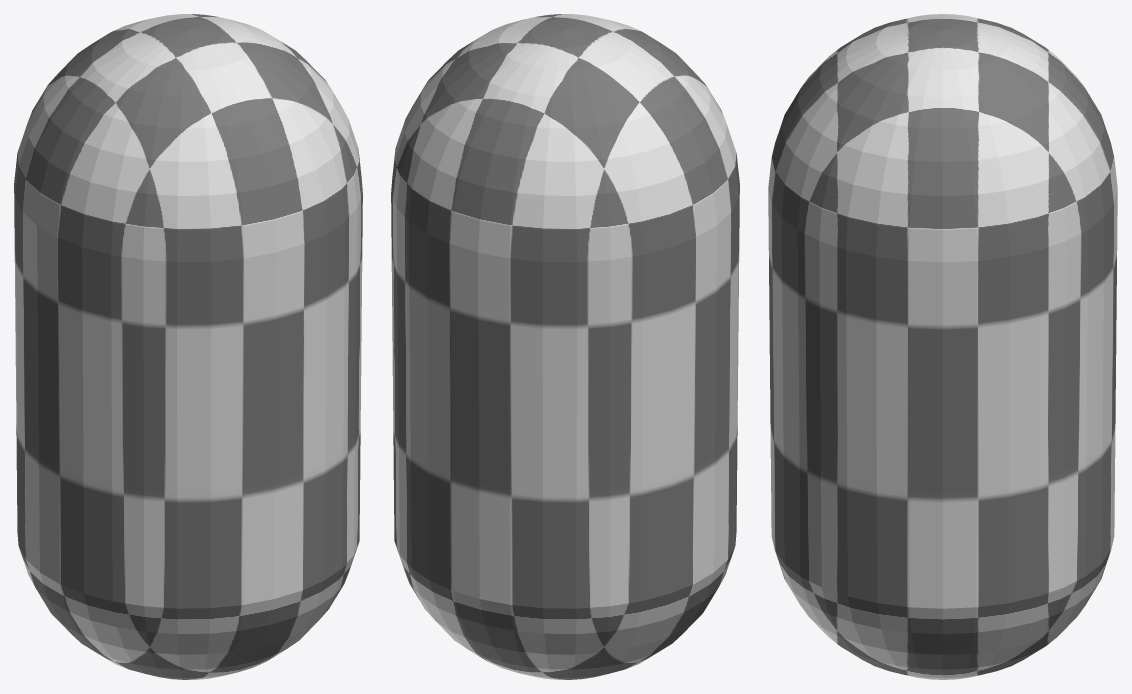
The picture shows the model from 3 angles, left to right: view 1: azimuth 30°, elevation 25°; view 2: azimuth 150°, elevation 25°; view 3: azimuth 270°, elevation 25°; orthographic projection.
Visible parts, largest first — view 1: Sphere; view 2: Sphere; view 3: Sphere.
Boxes of the visible parts, x1,y1,x2,y2 form: Sphere: (14,14,362,679); Sphere: (391,14,739,679); Sphere: (768,14,1117,679).
Bounding box in the file's own units: 1 × 2 × 1.
Materials: 1 (1 with a texture image).
